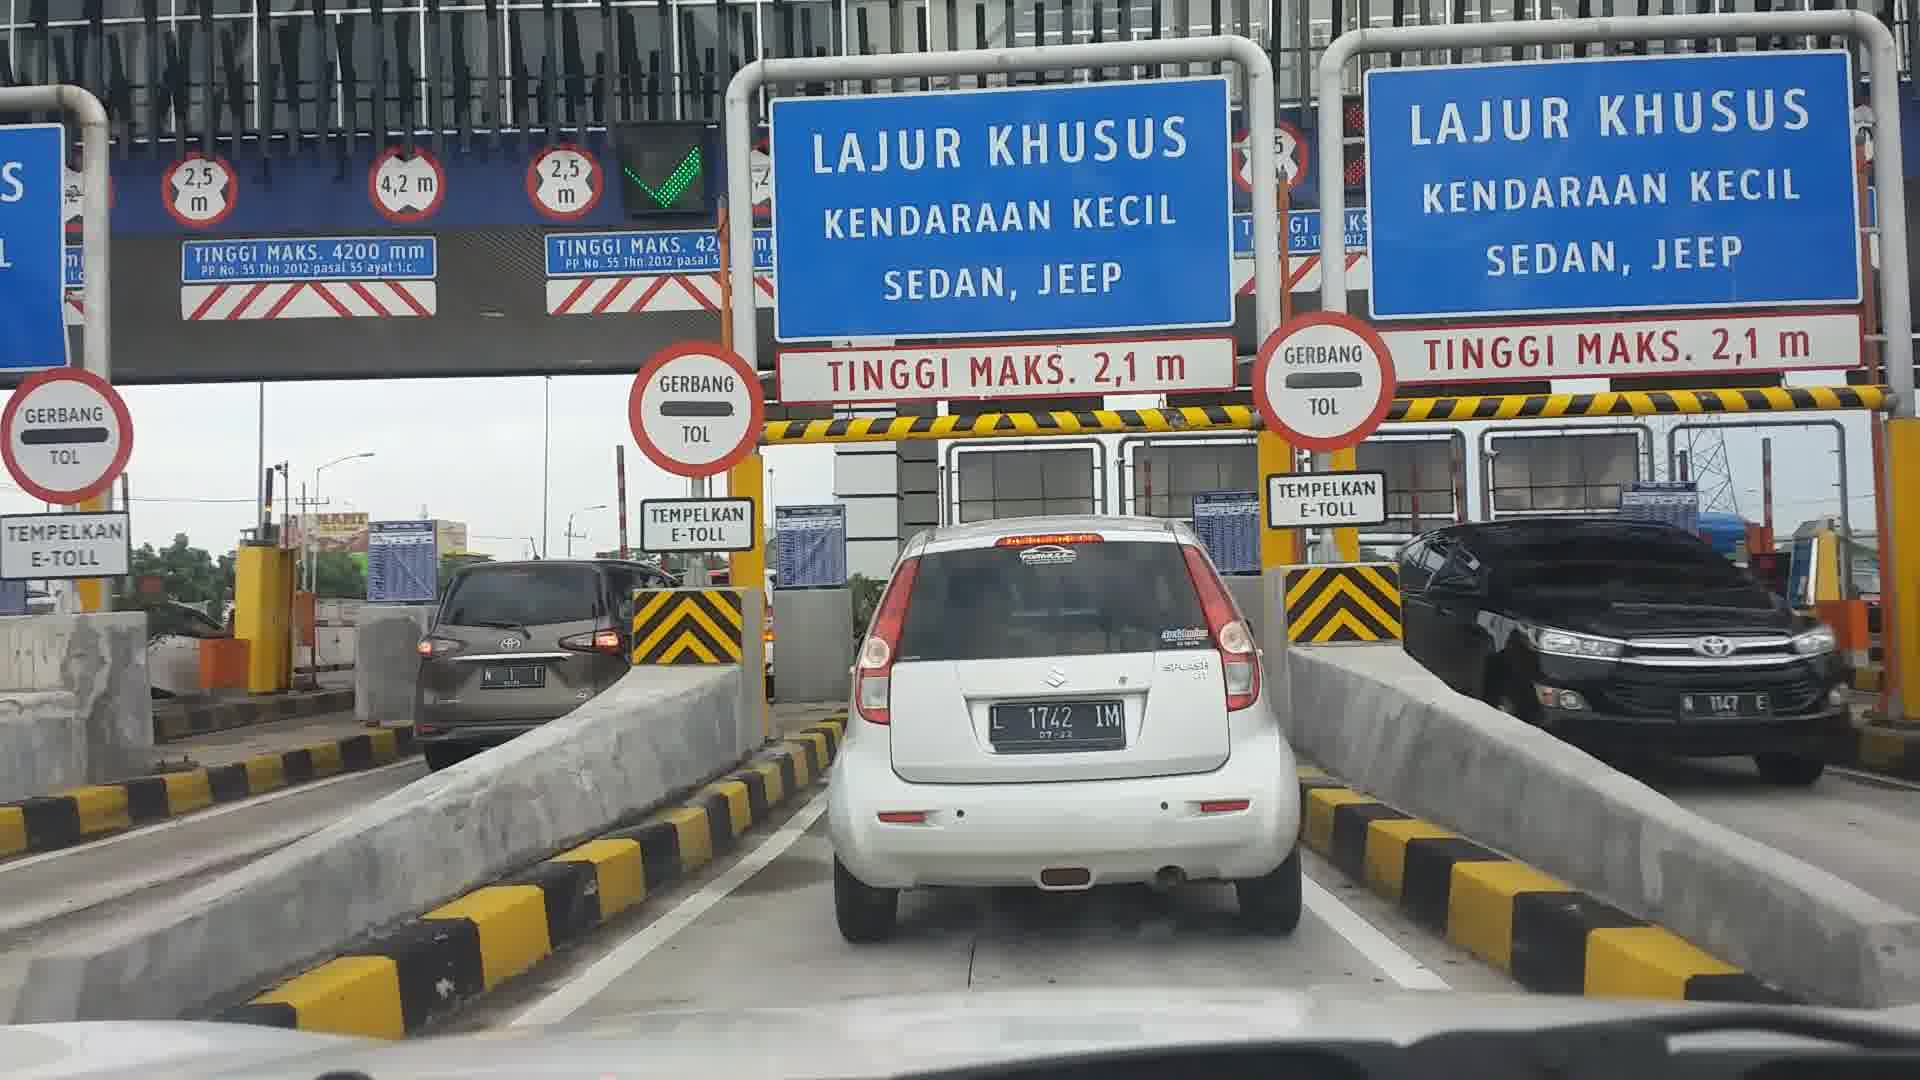plate_positive: (988, 702, 1126, 752), (481, 662, 546, 688)
